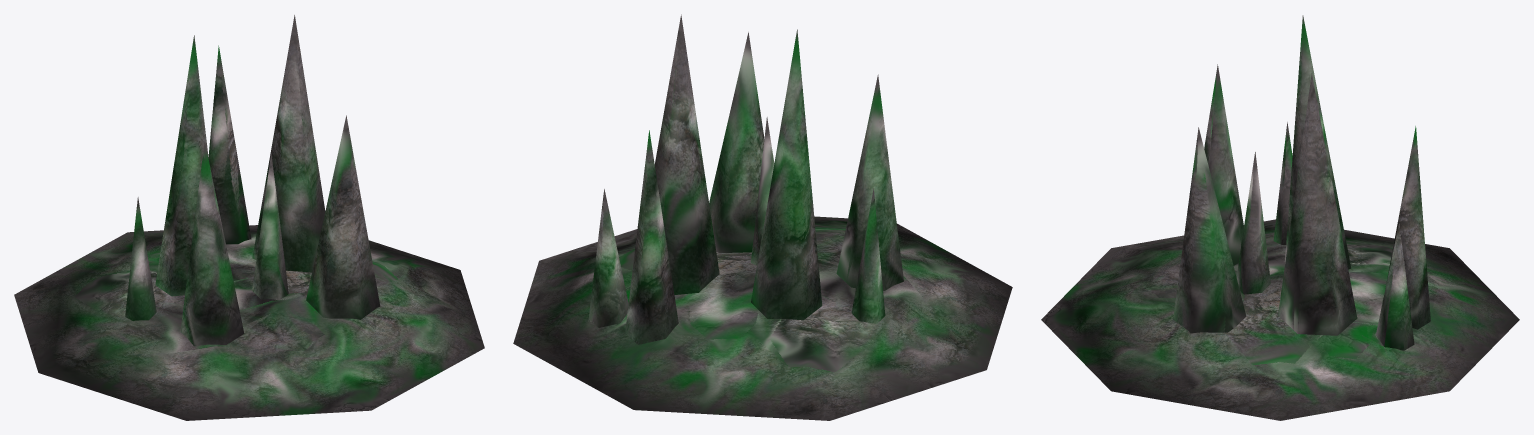
File: stalactites2.fbx
3 views of the same model, side by side, from view 1: azimuth 30°, elevation 25°; view 2: azimuth 150°, elevation 25°; view 3: azimuth 270°, elevation 25° (orthographic). The views are drawn at different scales.
Parts seen in each view (by area): view 1: Cone.001; view 2: Cone.001; view 3: Cone.001.
Boxes of the visible parts, x1=… form: Cone.001: x1=14, y1=15, x2=484, y2=420; Cone.001: x1=513, y1=14, x2=1012, y2=420; Cone.001: x1=1041, y1=15, x2=1519, y2=420.
Size of the model in its own units: 125 by 83.51 by 125.
Materials: 1 (1 with a texture image).
